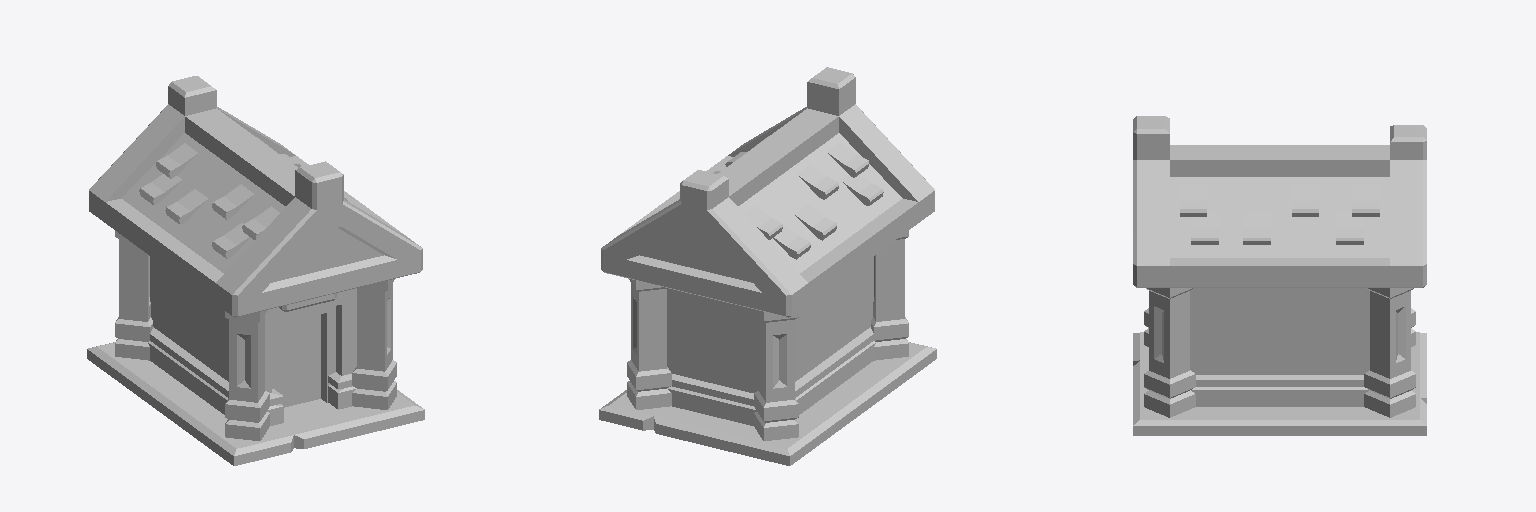
The model's file is crypt.obj.
3 views of the same model, side by side, from view 1: azimuth 30°, elevation 25°; view 2: azimuth 150°, elevation 25°; view 3: azimuth 270°, elevation 25° (orthographic).
Parts seen in each view (by area): view 1: crypt_Cube.514; view 2: crypt_Cube.514; view 3: crypt_Cube.514.
Boxes of the visible parts, <box> form: crypt_Cube.514: <box>87,76,424,465</box>; crypt_Cube.514: <box>599,67,936,465</box>; crypt_Cube.514: <box>1133,116,1426,435</box>.
Bounding box in the file's own units: 6 × 8 × 8.